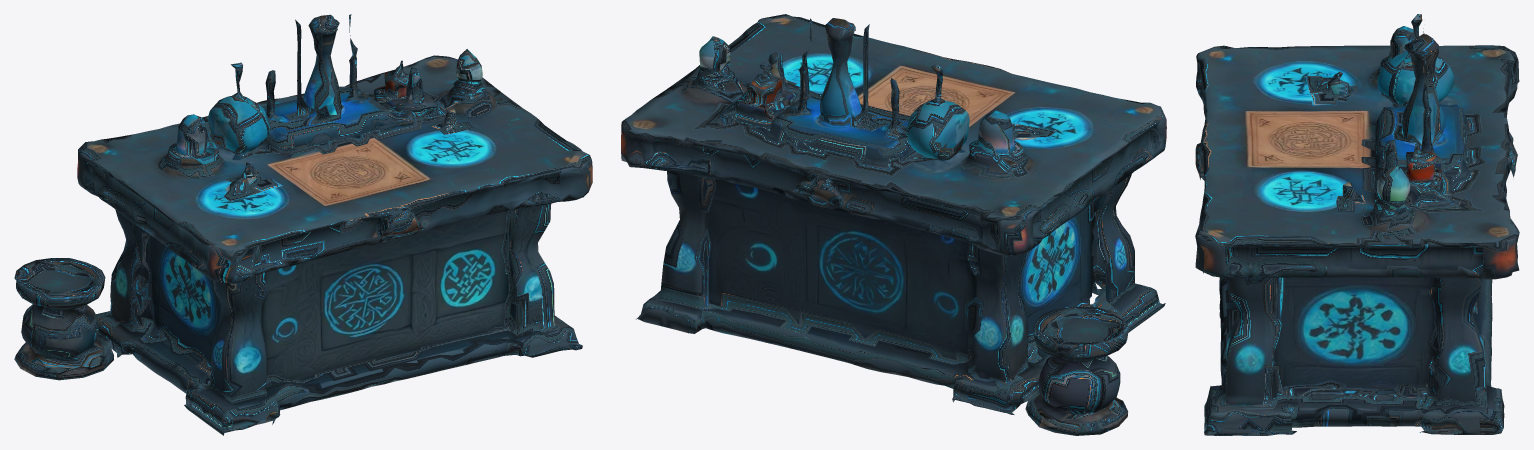
File: counter.glb
3 views of the same model, side by side, from view 1: azimuth 30°, elevation 25°; view 2: azimuth 150°, elevation 25°; view 3: azimuth 270°, elevation 25° (orthographic). The views are drawn at different scales.
Bounding box in the file's own units: 1.94 × 1.23 × 1.11.
1 material, 1 textured.
